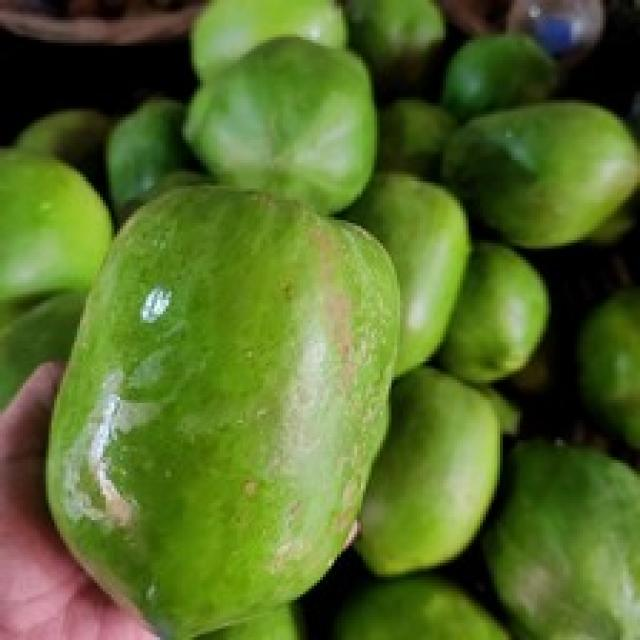Pepaya unrippen: (44, 179, 419, 639)
